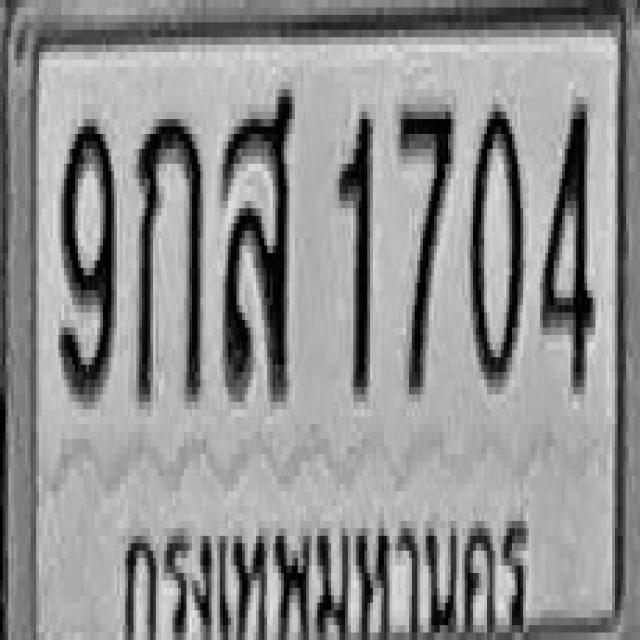0: (468, 97, 523, 387)
1: (337, 104, 373, 394)
10GorGai: (135, 111, 202, 402)
4: (541, 97, 594, 387)
49SorSuea: (221, 86, 294, 398)
7: (398, 97, 453, 394)
9: (59, 111, 114, 402)
Bangkok: (105, 498, 531, 640)
